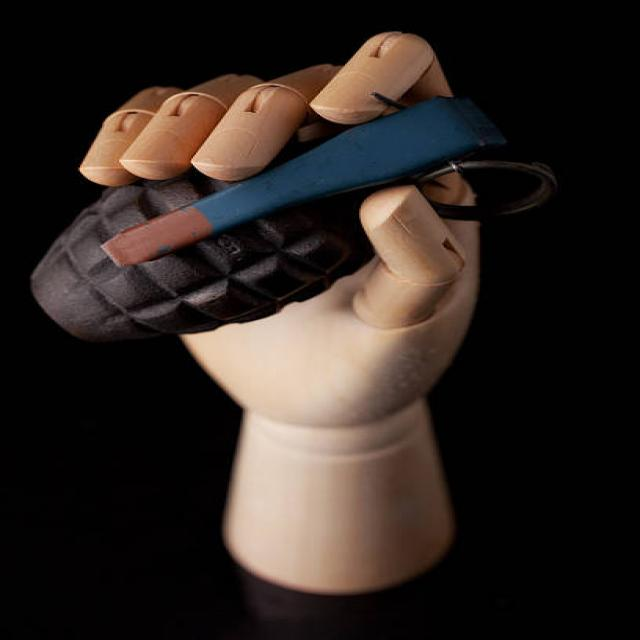grenade: (18, 88, 564, 352)
